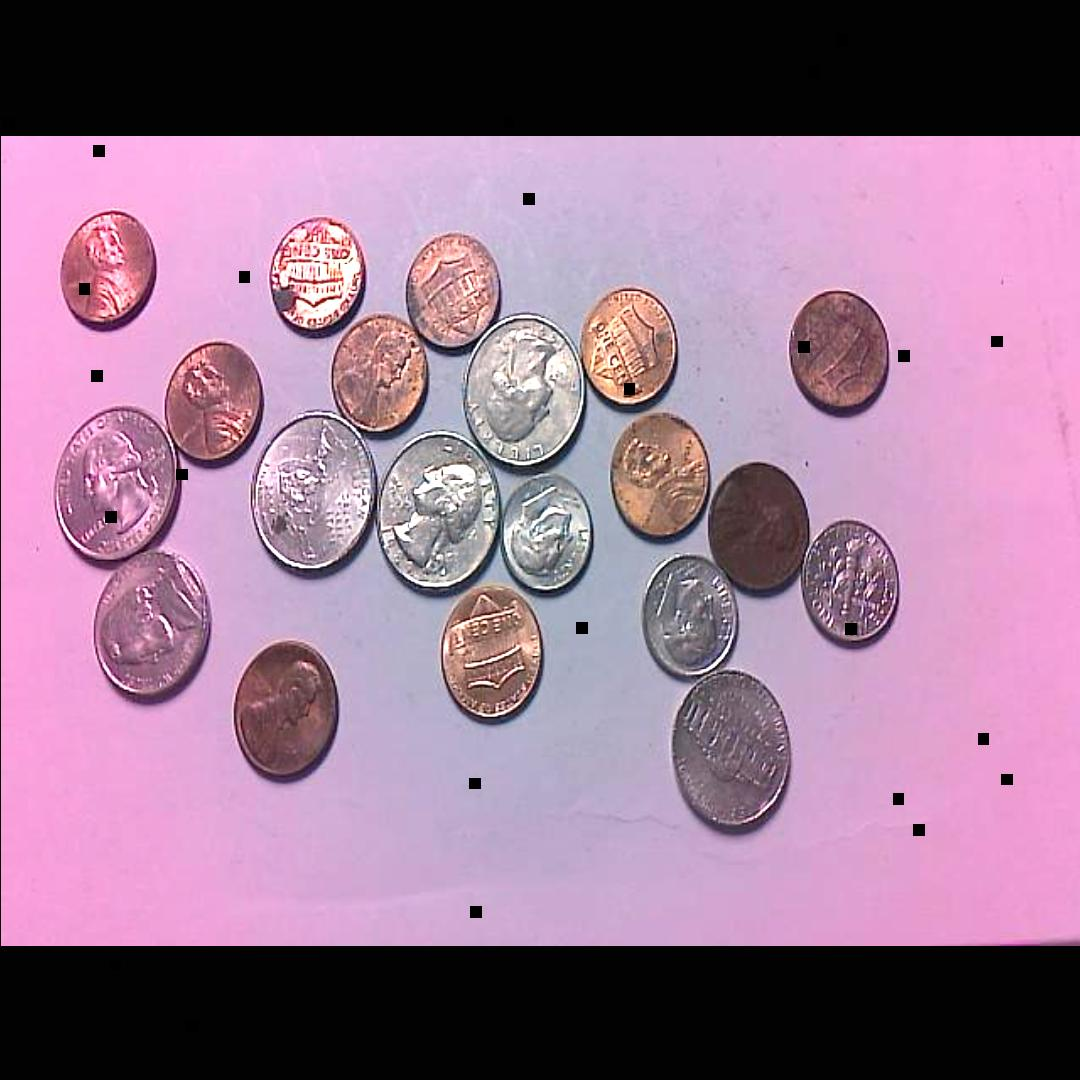Dime: (798, 515, 903, 651), (636, 550, 742, 683), (494, 471, 592, 597)
Nickel: (667, 665, 795, 837), (88, 540, 211, 707)
Penny: (228, 636, 341, 785), (434, 586, 547, 726), (783, 282, 894, 418), (707, 456, 812, 597), (160, 336, 267, 464), (579, 282, 682, 412), (56, 202, 159, 332), (609, 410, 709, 542), (265, 211, 368, 338), (327, 310, 429, 434), (403, 228, 503, 354)
Quarter: (246, 402, 376, 579), (49, 402, 181, 569), (378, 434, 500, 601), (466, 314, 584, 472)
